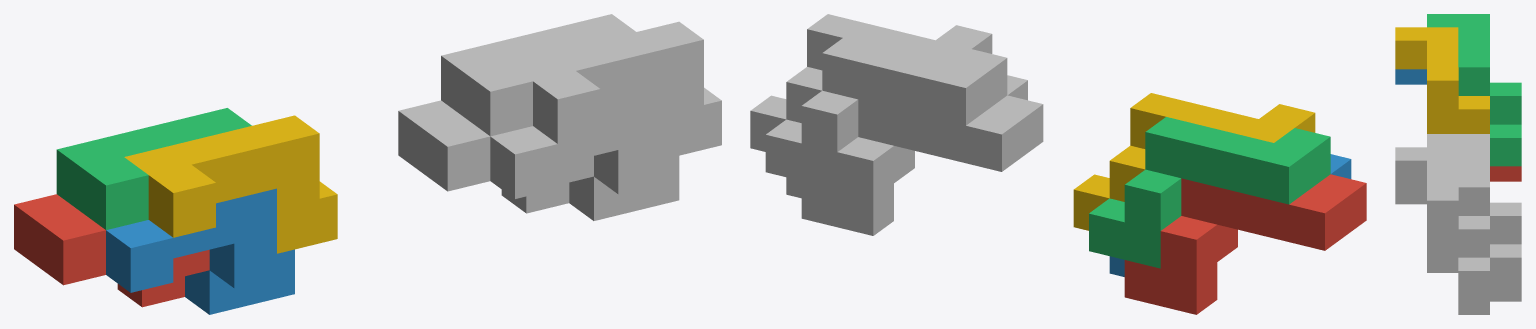
File: tiling.obj
The picture shows the model from 3 angles, left to right: view 1: azimuth 30°, elevation 25°; view 2: azimuth 150°, elevation 25°; view 3: azimuth 270°, elevation 25°; orthographic projection. The views are drawn at different scales.
Visible parts, largest first — view 1: copy_1_domain_4, copy_1_domain_8, copy_1_domain_6, copy_1_domain_2, copy_1_domain_3, copy_1_domain_7, copy_1_domain_5, copy_1_domain_1; view 2: copy_1_domain_7, copy_1_domain_3, copy_1_domain_1, copy_1_domain_5, copy_1_domain_8, copy_1_domain_4, copy_1_domain_2, copy_1_domain_6; view 3: copy_1_domain_8, copy_1_domain_4, copy_1_domain_3, copy_1_domain_7, copy_1_domain_6, copy_1_domain_1, copy_1_domain_2, copy_1_domain_5.
Boxes of the visible parts, left/top/right/bottom form: copy_1_domain_4: left=124, top=115, right=337, bottom=253; copy_1_domain_8: left=509, top=21, right=721, bottom=159; copy_1_domain_6: left=490, top=95, right=679, bottom=220; copy_1_domain_2: left=106, top=188, right=294, bottom=314; copy_1_domain_3: left=56, top=108, right=251, bottom=229; copy_1_domain_7: left=441, top=14, right=635, bottom=136; copy_1_domain_5: left=398, top=100, right=593, bottom=213; copy_1_domain_1: left=14, top=194, right=209, bottom=307; copy_1_domain_7: left=765, top=38, right=1007, bottom=189; copy_1_domain_3: left=1089, top=117, right=1330, bottom=268; copy_1_domain_1: left=1124, top=174, right=1366, bottom=314; copy_1_domain_5: left=801, top=95, right=1043, bottom=235; copy_1_domain_8: left=750, top=14, right=992, bottom=151; copy_1_domain_4: left=1073, top=93, right=1315, bottom=230; copy_1_domain_2: left=1109, top=154, right=1351, bottom=276; copy_1_domain_6: left=786, top=75, right=1027, bottom=198; copy_1_domain_8: left=1395, top=147, right=1489, bottom=299; copy_1_domain_4: left=1395, top=27, right=1489, bottom=133; copy_1_domain_3: left=1427, top=14, right=1521, bottom=166; copy_1_domain_7: left=1427, top=134, right=1521, bottom=286; copy_1_domain_6: left=1395, top=189, right=1489, bottom=314; copy_1_domain_1: left=1490, top=166, right=1521, bottom=181; copy_1_domain_2: left=1395, top=69, right=1426, bottom=84; copy_1_domain_5: left=1490, top=286, right=1521, bottom=301.
Bounding box in the file's own units: 16 × 4 × 4.
